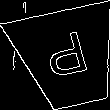P_S: (41, 30, 95, 87)
